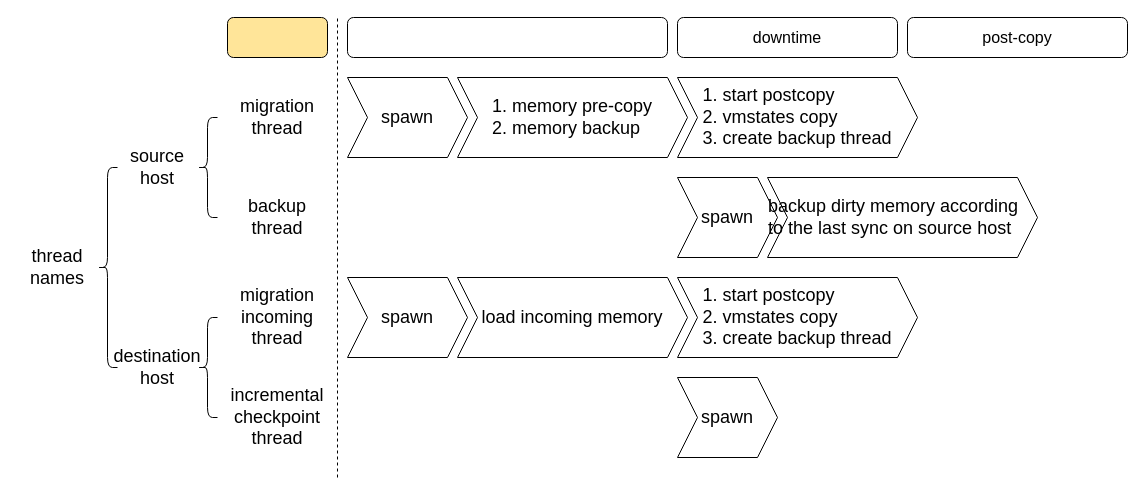
The diagram is 1145 pixels wide and 496 high, and some of its shapes have lost their labels. The centre of each missing label's shape, as x and y in pixels:
"pre-copy" belongs at pixel 507 37.
"Time Section" belongs at pixel 277 37.
